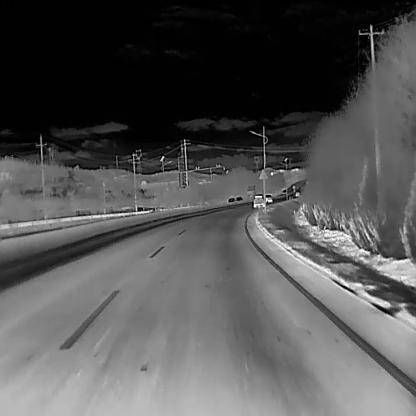car: (252, 194, 265, 207), (266, 193, 272, 202), (227, 196, 234, 203), (235, 194, 241, 202)
